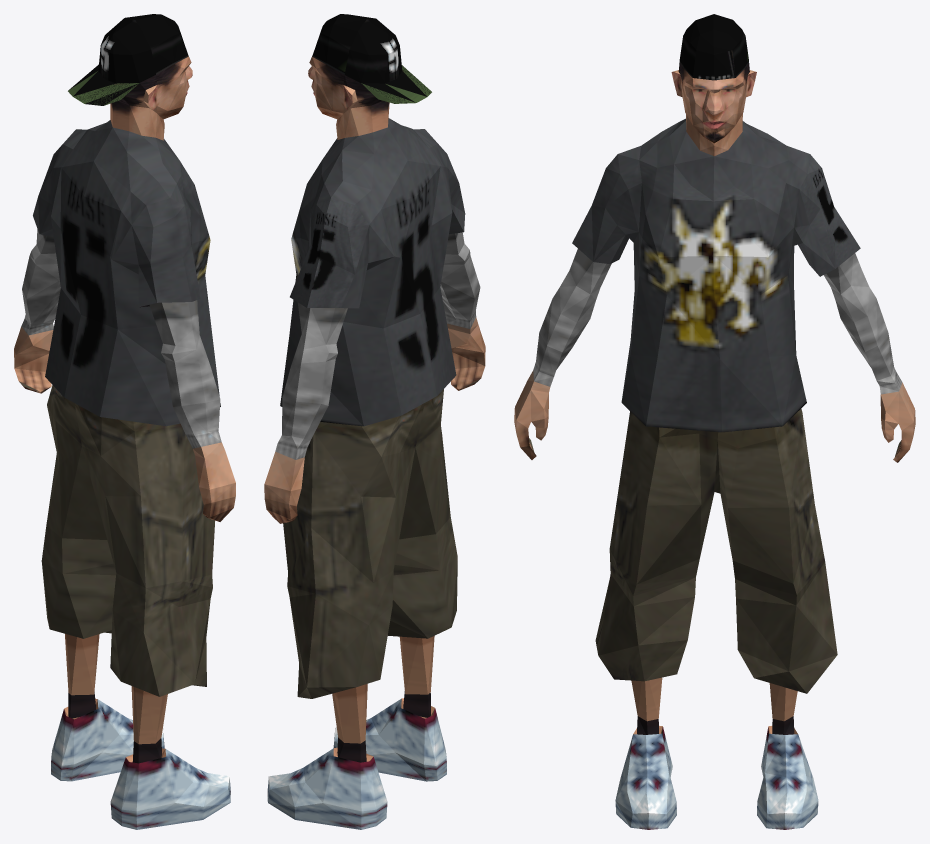
File: wmybmx.obj
3 views of the same model, side by side, from view 1: azimuth 30°, elevation 25°; view 2: azimuth 150°, elevation 25°; view 3: azimuth 270°, elevation 25° (orthographic). The views are drawn at different scales.
Parts seen in each view (by area): view 1: _Pelvis; view 2: _Pelvis; view 3: _Pelvis.
Part boxes in pixels (<box>): _Pelvis: <box>14,14,235,829</box>; _Pelvis: <box>264,14,485,829</box>; _Pelvis: <box>514,14,915,829</box>.
Bounding box in the file's own units: 0.3494 × 1.9 × 0.879.
1 material, 1 textured.
